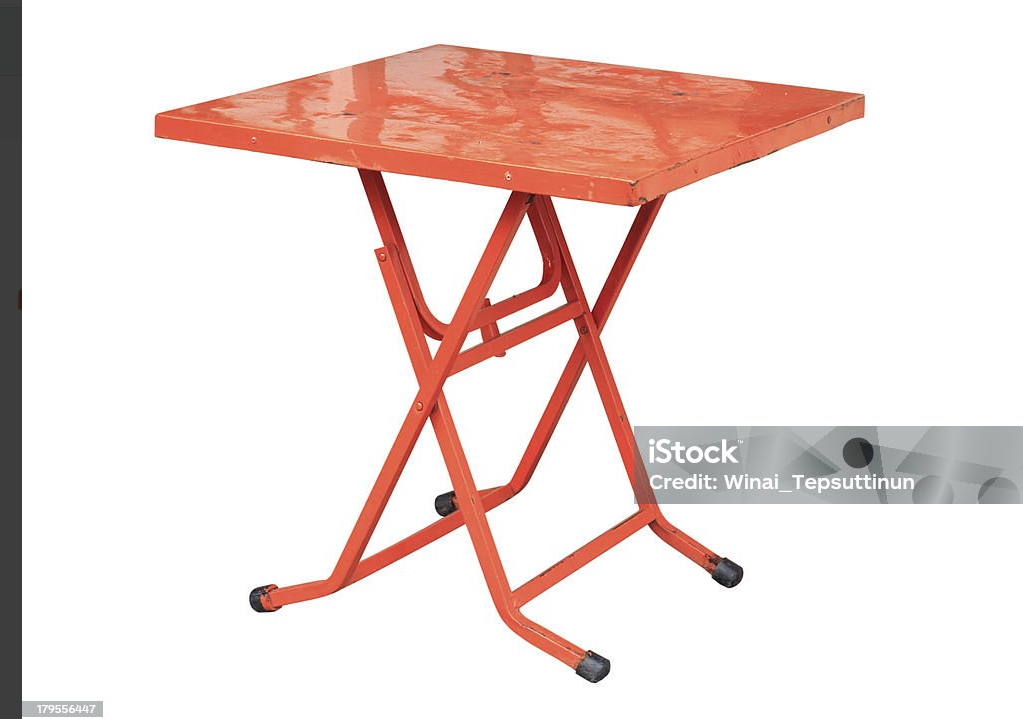obstacle: (152, 41, 863, 678)
